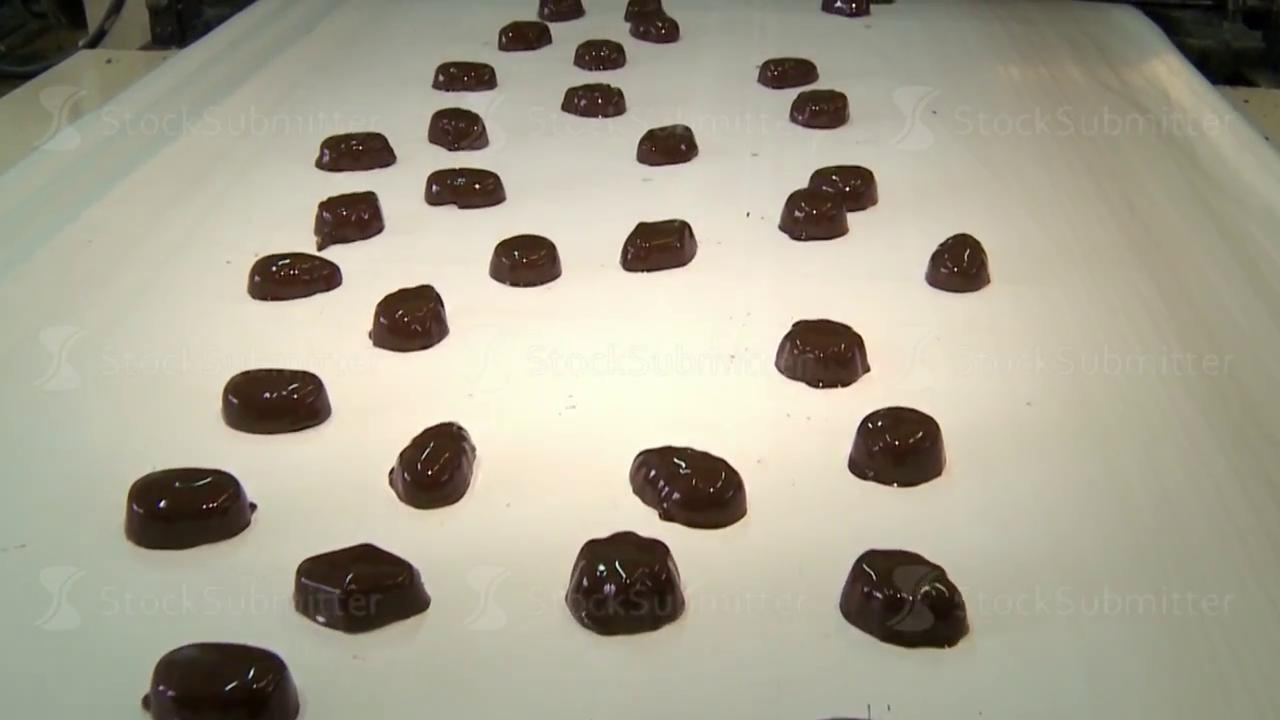chocolate: (839, 547, 969, 649), (565, 530, 685, 635), (293, 542, 431, 633), (141, 641, 300, 718), (125, 466, 256, 550), (629, 445, 747, 529), (848, 406, 946, 487), (388, 421, 476, 509), (221, 367, 331, 434), (774, 318, 870, 389), (369, 284, 449, 352), (247, 251, 342, 301), (313, 190, 384, 250), (620, 218, 697, 272), (925, 232, 990, 292), (489, 233, 561, 287), (778, 187, 848, 240), (425, 167, 505, 209), (809, 164, 878, 211), (315, 131, 396, 171), (636, 123, 698, 166), (428, 107, 488, 151), (624, 0, 679, 43), (789, 89, 849, 128), (561, 82, 626, 118), (432, 60, 497, 91), (757, 57, 818, 89), (573, 38, 626, 71), (497, 20, 552, 51)
